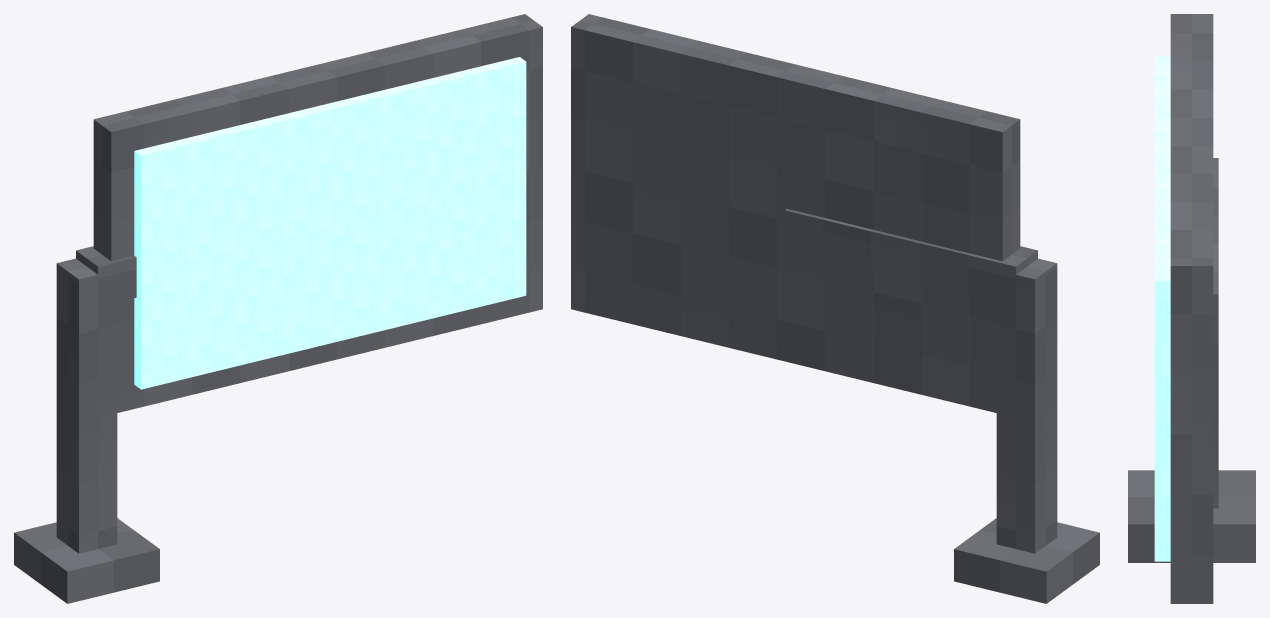
The model's file is pixel-modern-office-monitor-arm-54a8d67b.glb.
The picture shows the model from 3 angles, left to right: view 1: azimuth 30°, elevation 25°; view 2: azimuth 150°, elevation 25°; view 3: azimuth 270°, elevation 25°; orthographic projection. The views are drawn at different scales.
Parts seen in each view (by area): view 1: monitor-arm; view 2: monitor-arm; view 3: monitor-arm.
Boxes of the visible parts, box(x1,y1,x2,y2) form: monitor-arm: box(14, 14, 542, 603); monitor-arm: box(571, 14, 1099, 603); monitor-arm: box(1128, 14, 1255, 603).
Bounding box in the file's own units: 0.64 × 0.55 × 0.12.
Materials: 2 (2 with a texture image).
